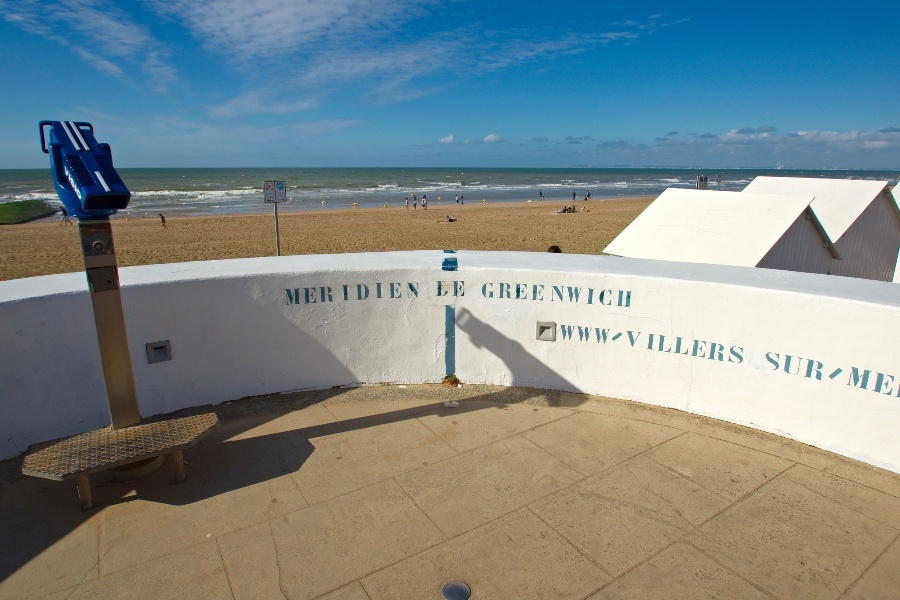text: (769, 346, 784, 397), (785, 346, 800, 397), (801, 346, 816, 397), (817, 346, 832, 397), (833, 346, 848, 397), (849, 346, 864, 397), (865, 346, 880, 397), (881, 346, 896, 397), (561, 322, 576, 365), (577, 322, 592, 365), (593, 322, 608, 365), (609, 322, 624, 365), (625, 322, 640, 365), (641, 322, 656, 365), (657, 322, 672, 365), (673, 322, 688, 365), (689, 322, 704, 365), (705, 322, 720, 365), (721, 322, 736, 365), (65, 165, 80, 201), (737, 322, 747, 365), (561, 285, 576, 308), (577, 285, 592, 308), (593, 285, 608, 308), (609, 285, 624, 308), (353, 281, 368, 303), (369, 281, 384, 303), (385, 281, 400, 303), (401, 281, 416, 303), (289, 286, 304, 306), (305, 286, 320, 306), (449, 280, 465, 298), (497, 282, 512, 301), (513, 282, 528, 301), (529, 282, 544, 301), (482, 282, 496, 301), (321, 286, 334, 306), (763, 346, 768, 397), (342, 281, 352, 303), (436, 280, 448, 298), (551, 285, 560, 308), (625, 285, 633, 308), (897, 346, 900, 397), (81, 165, 84, 201), (284, 286, 288, 306), (417, 281, 420, 303), (545, 282, 546, 301)
